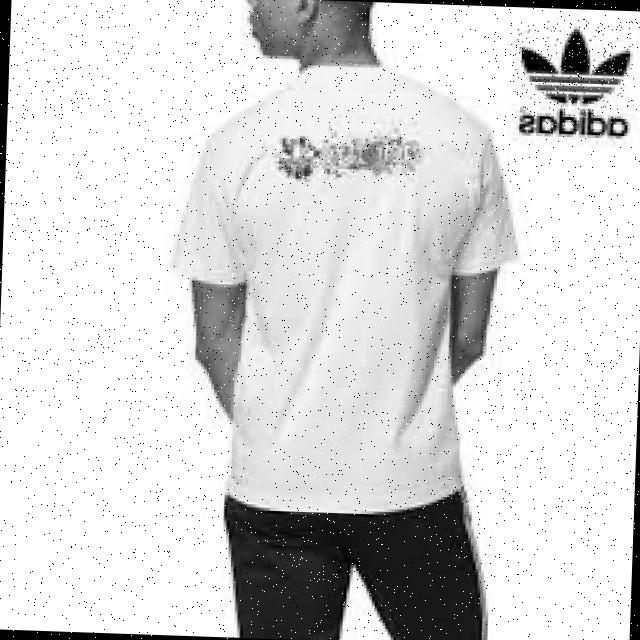Adidas: (508, 16, 636, 114)
